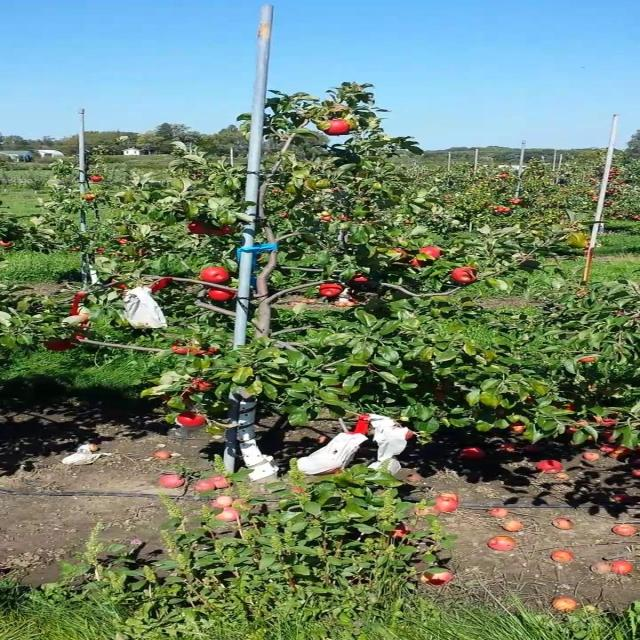apple: (200, 266, 231, 284), (176, 411, 207, 428), (449, 266, 478, 284), (324, 119, 351, 136), (318, 282, 344, 298), (44, 339, 76, 351), (207, 288, 236, 301), (151, 276, 173, 293), (180, 388, 200, 403), (420, 246, 442, 259), (567, 420, 589, 433), (191, 379, 213, 392), (187, 221, 207, 234), (596, 416, 618, 427), (209, 226, 233, 236), (551, 402, 576, 411), (569, 420, 589, 431), (189, 348, 220, 355), (509, 422, 527, 434), (351, 272, 369, 284), (316, 468, 342, 476), (171, 344, 189, 355), (433, 386, 447, 400), (391, 249, 409, 259), (409, 258, 427, 268), (601, 432, 616, 442), (112, 278, 124, 290), (578, 356, 598, 363), (71, 334, 87, 341), (78, 319, 89, 329), (404, 430, 416, 439), (160, 395, 176, 401), (79, 311, 89, 320)
